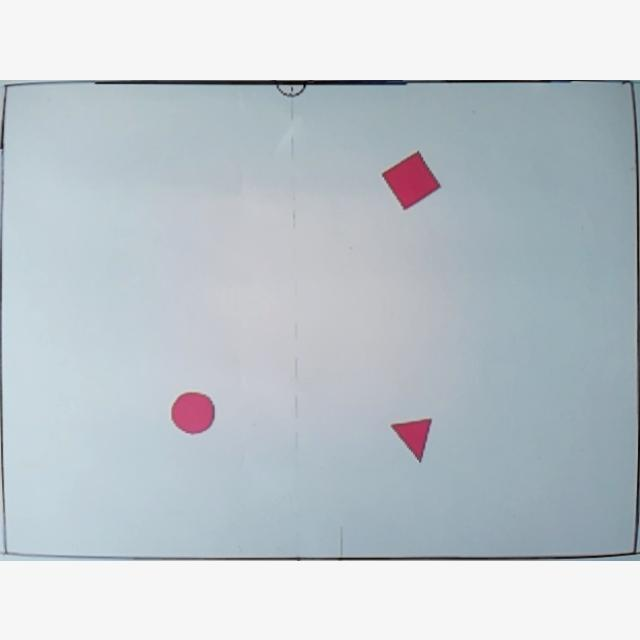pinkCircle: (170, 390, 217, 434)
pinkSquare: (380, 150, 442, 212)
pinkTriangle: (388, 414, 432, 464)
